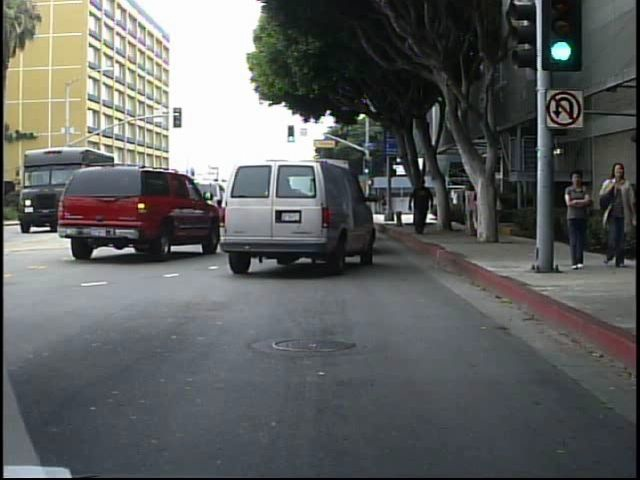person: (596, 159, 630, 271), (561, 168, 595, 275), (407, 179, 436, 239), (483, 172, 504, 241), (461, 177, 481, 247), (414, 186, 428, 220)
